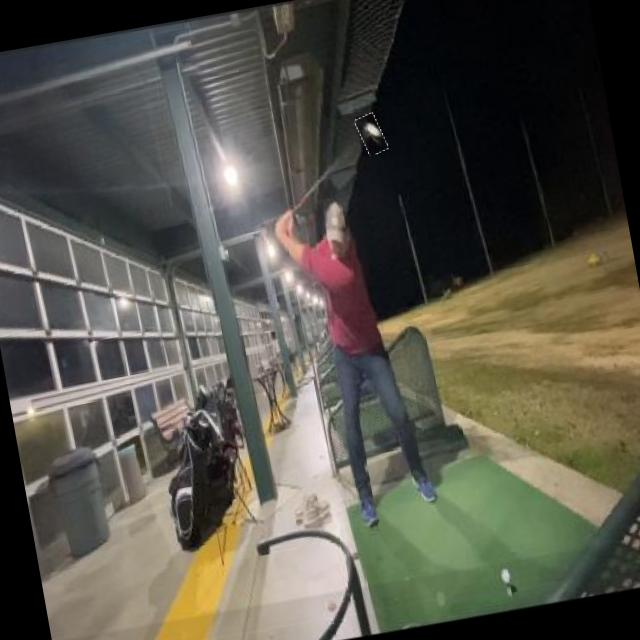club head: (355, 112, 387, 156)
